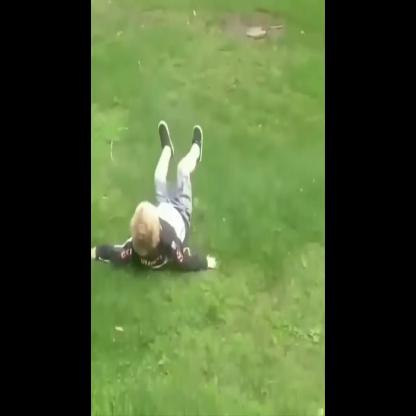Fall_Down: (92, 117, 218, 275)
